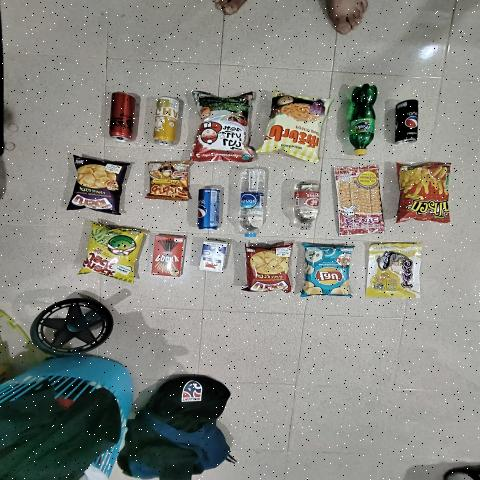bento_red: (335, 168, 376, 236)
coke_red: (110, 90, 142, 142)
crystal: (239, 170, 270, 239)
fanta_green: (345, 85, 378, 157)
lay_blue: (304, 246, 349, 295)
mama: (146, 161, 190, 200)
paprika: (272, 90, 325, 154)
party_purple: (71, 163, 129, 208)
party_red: (249, 248, 286, 291)
pepsi_black: (392, 98, 420, 148)
pepsi_blue: (195, 187, 221, 233)
pokki: (151, 236, 185, 274)
singha_soda: (294, 182, 321, 233)
singha_yellow: (151, 93, 183, 147)
snack_jack: (84, 232, 142, 272)
taokaenoi: (195, 89, 254, 161)
taro_yellow: (368, 246, 420, 298)
thai_denmark: (202, 244, 228, 270)
twisco: (400, 166, 450, 222)
